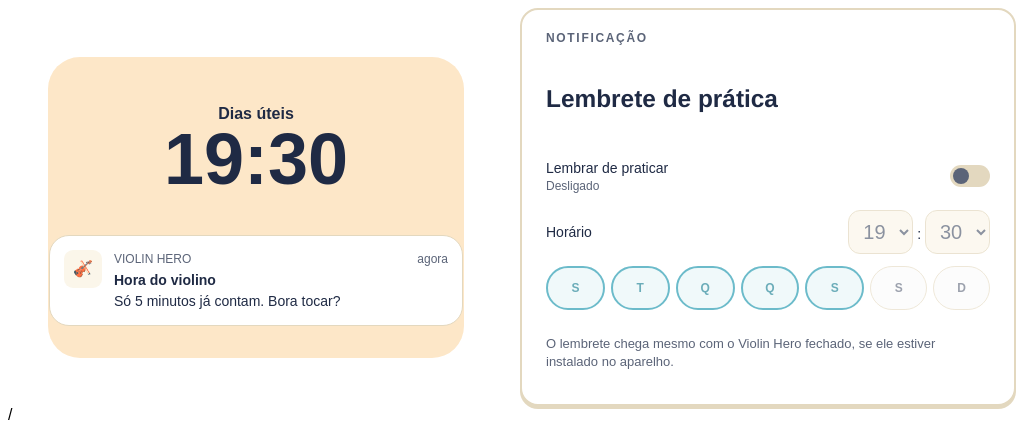
Reminder › horário e dias da semana
Click the switch labelled "Lembrar de praticar Desligado". click: [970, 176]
box: [948,154,992,198]
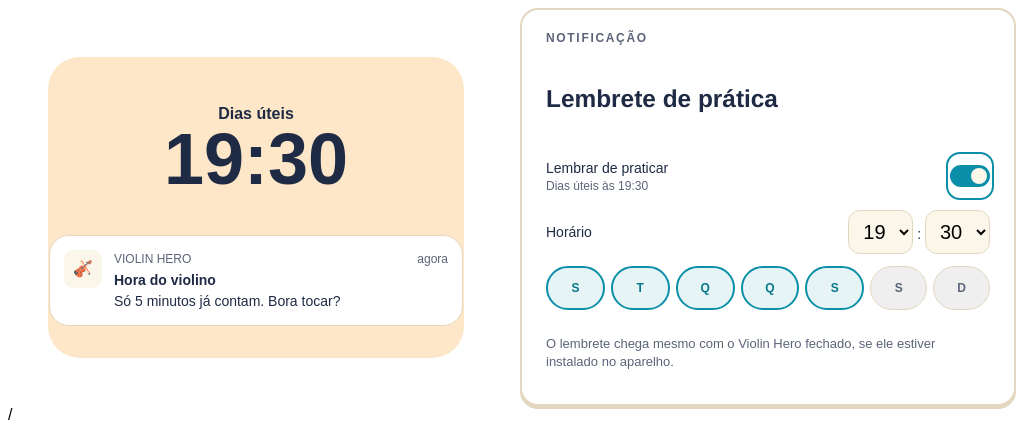
Click the button named "domingo". click: [962, 288]
box: [933,266,990,310]
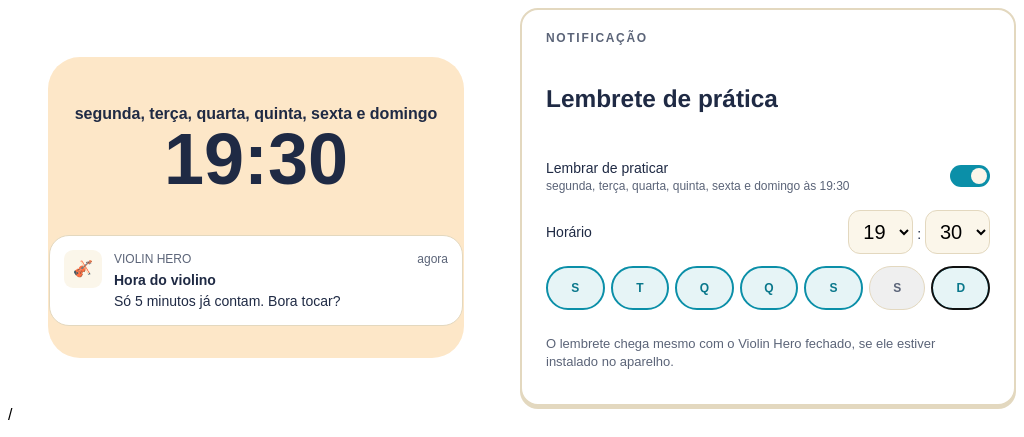
Click the button named "segunda". click: [575, 288]
box: [546,266,605,310]
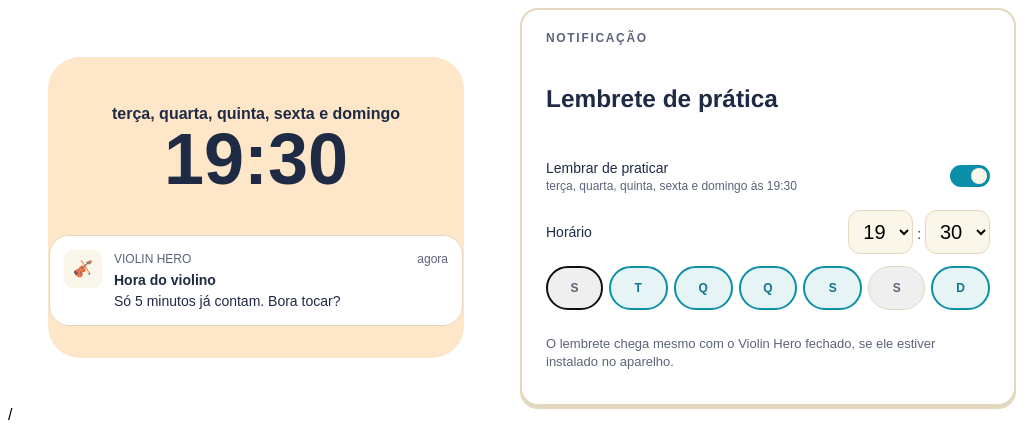
Expected: the button named "domingo" is pressed, [931,266,990,310]
Select "07" in the dropdown named "Hora". click: [881, 232]
box: [848,210,913,254]
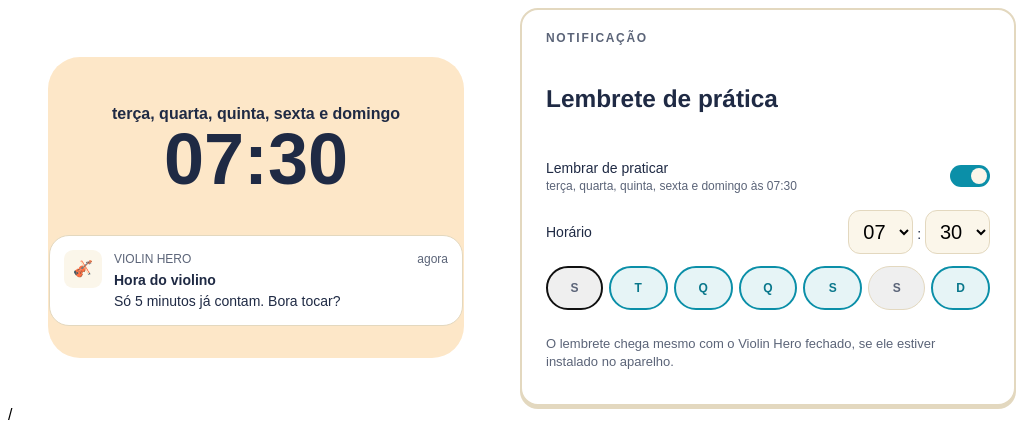
Select "15" in the dropdown named "Minuto". click: [958, 232]
box: [925,210,990,254]
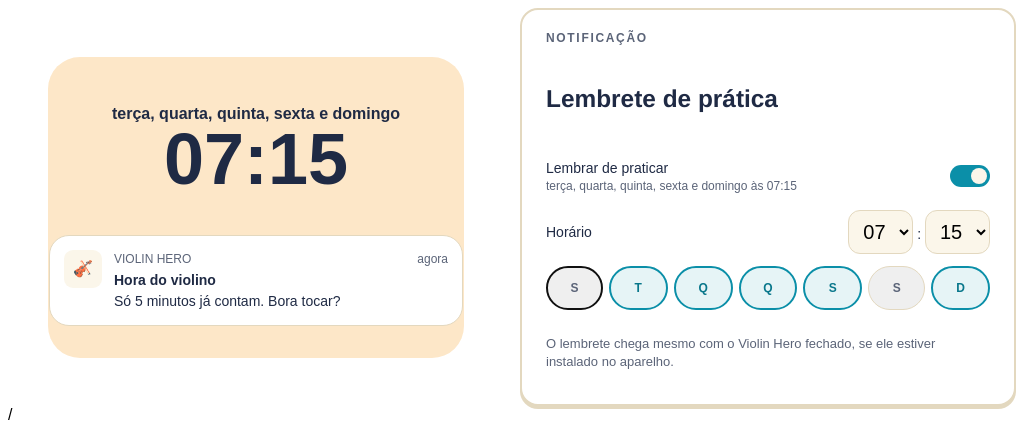
Select "23" in the dropdown named "Hora". click: [881, 232]
box: [848,210,913,254]
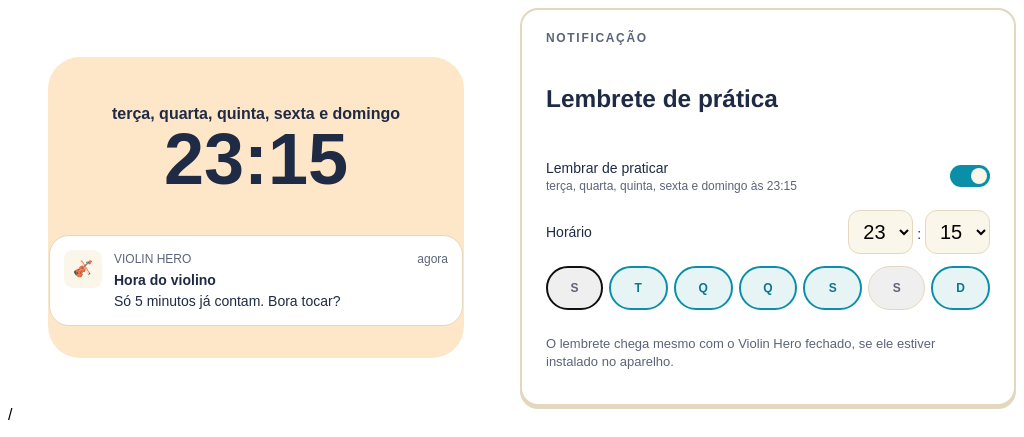
Expected: the element named "Como o lembrete aparece no celular" shows "23:15", [164,118,348,198]
